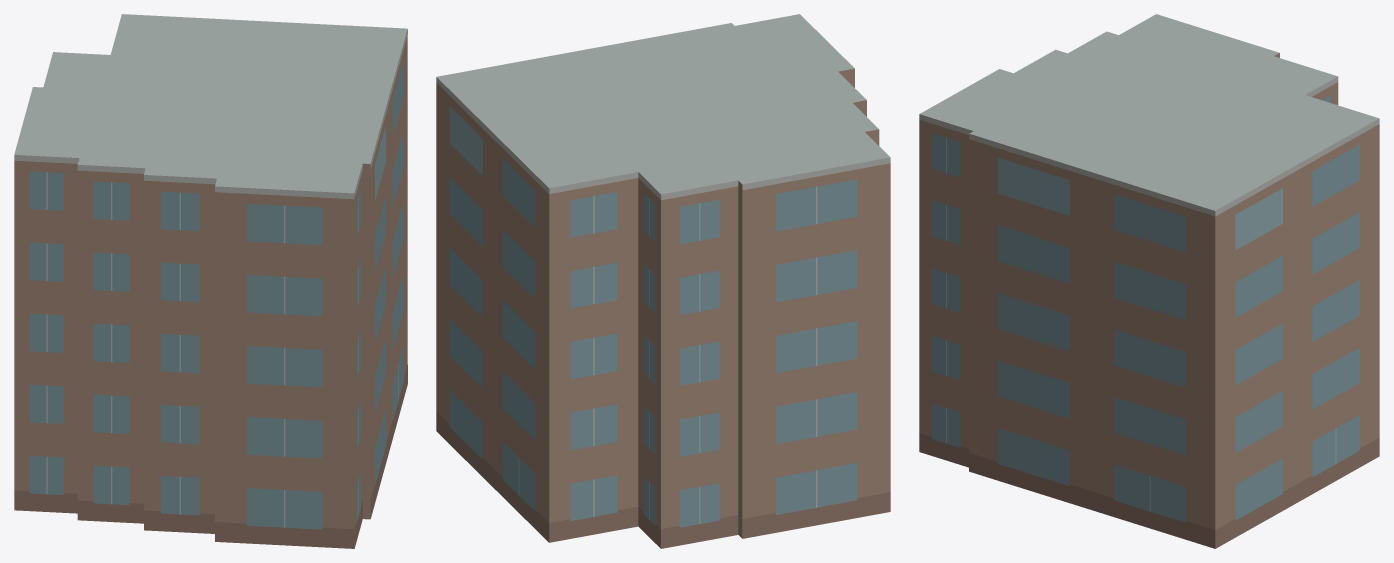
File: survey-upis-32938281.glb
3 views of the same model, side by side, from view 1: azimuth 30°, elevation 25°; view 2: azimuth 150°, elevation 25°; view 3: azimuth 270°, elevation 25° (orthographic). The views are drawn at different scales.
Parts seen in each view (by area): view 1: survey-upis-32938281.tmp; view 2: survey-upis-32938281.tmp; view 3: survey-upis-32938281.tmp.
Part boxes in pixels (<box>): survey-upis-32938281.tmp: <box>14,14,407,548</box>; survey-upis-32938281.tmp: <box>436,14,890,548</box>; survey-upis-32938281.tmp: <box>919,14,1379,548</box>.
Size of the model in its own units: 18.64 by 14.9 by 18.4.
